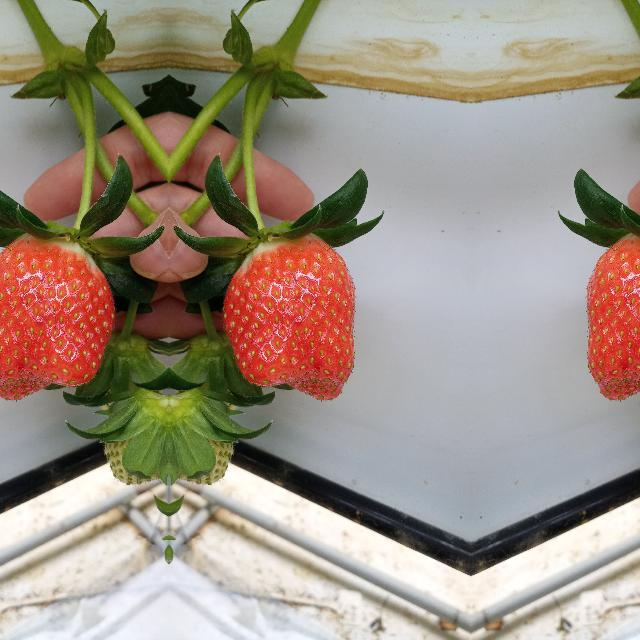Health_100: (222, 232, 356, 402), (0, 232, 114, 401), (584, 232, 640, 401)
Health_25: (171, 394, 231, 502), (105, 394, 165, 502)
